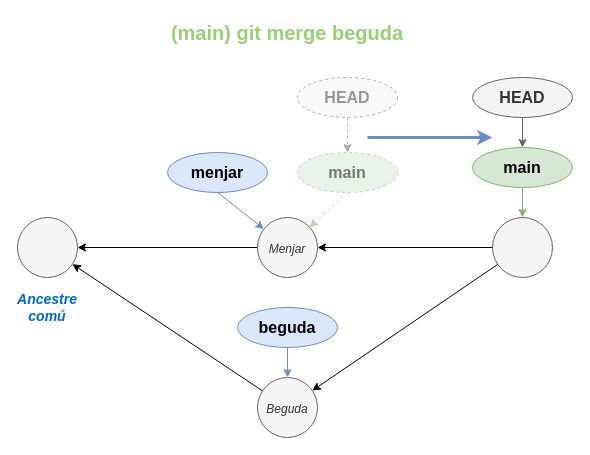
The diagram is 590 pixels wide and 455 high, and some of its shapes have lost their labels. Here are the shapes that lost their labels. From the top down, the centre of each, then its label:
At (x=47, y=247): "Commit inicial".
At (x=522, y=247): "Merge commit".
